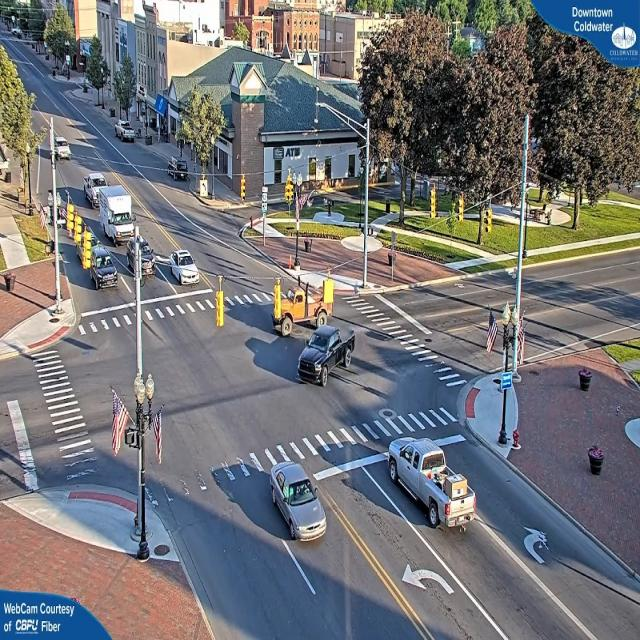car: (385, 440, 476, 536), (266, 458, 326, 542), (292, 324, 351, 392), (126, 232, 156, 282), (91, 242, 118, 292), (166, 250, 200, 286), (117, 123, 136, 143)
truck: (272, 278, 334, 335), (92, 181, 138, 244)
